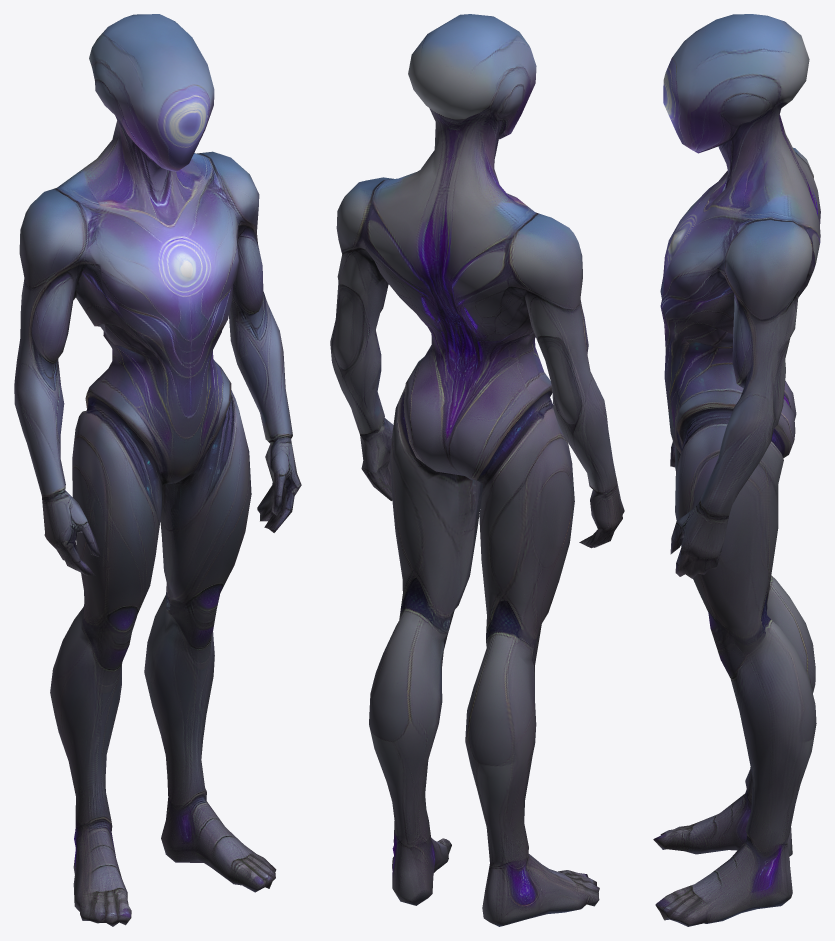
File: empath.glb
The picture shows the model from 3 angles, left to right: view 1: azimuth 30°, elevation 25°; view 2: azimuth 150°, elevation 25°; view 3: azimuth 270°, elevation 25°; orthographic projection. The views are drawn at different scales.
Visible parts, largest first — view 1: Mesh_0; view 2: Mesh_0; view 3: Mesh_0.
Boxes of the visible parts, x1,y1,x2,y2 form: Mesh_0: [14, 14, 301, 926]; Mesh_0: [330, 14, 624, 926]; Mesh_0: [653, 14, 820, 926].
Bounding box in the file's own units: 0.6064 × 1.91 × 0.3364.
1 material, 1 textured.
